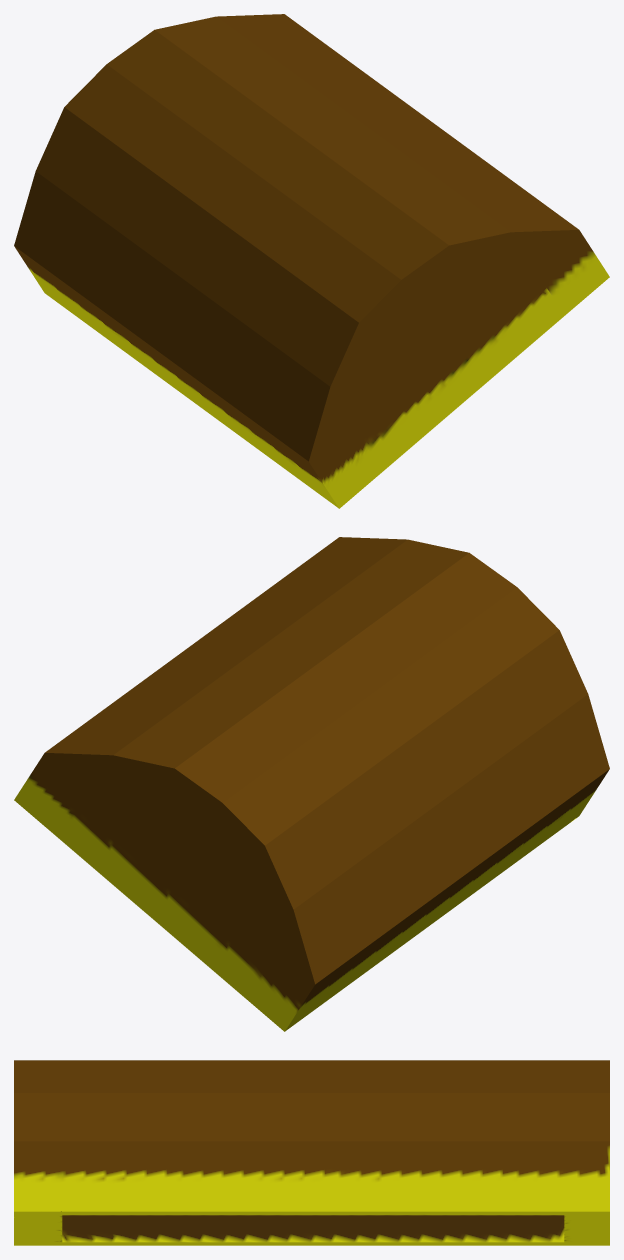
The model's file is takarabox 上.fbx.
The picture shows the model from 3 angles, top to bottom: view 1: azimuth 30°, elevation 25°; view 2: azimuth 150°, elevation 25°; view 3: azimuth 270°, elevation 25°; orthographic projection.
Parts seen in each view (by area): view 1: polySurface20; view 2: polySurface20; view 3: polySurface20.
Part boxes in pixels (x1=…): polySurface20: x1=14, y1=14, x2=609, y2=508; polySurface20: x1=14, y1=537, x2=609, y2=1031; polySurface20: x1=14, y1=1060, x2=609, y2=1245.
Size of the model in its own units: 7.41 by 5.56 by 12.55.
Materials: 1 (1 with a texture image).
